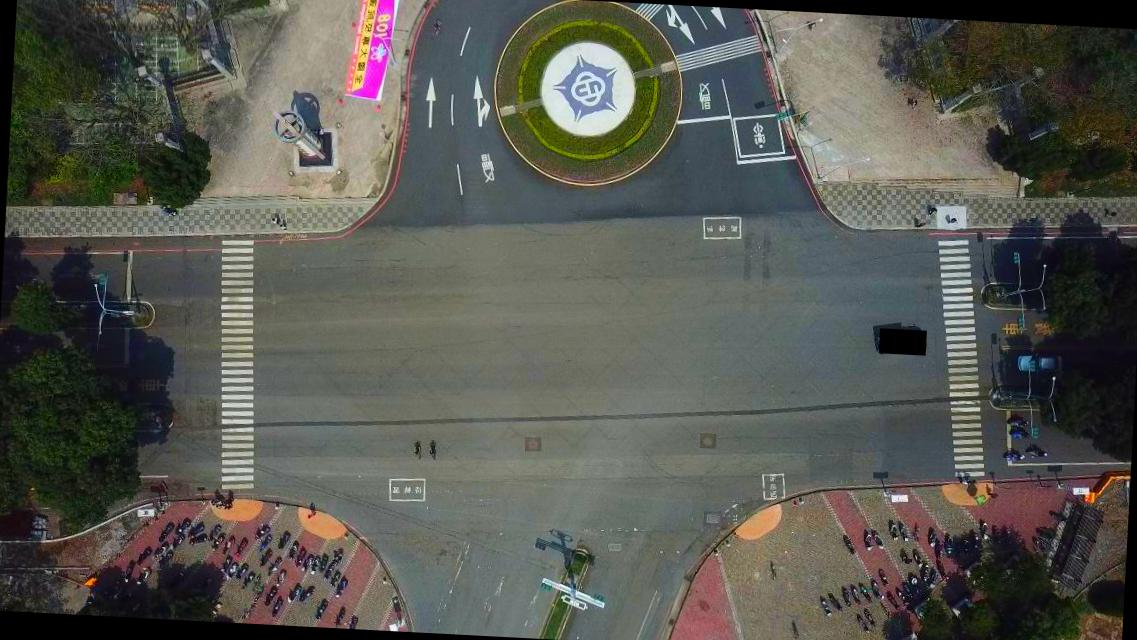vehicle: (1016, 352, 1066, 374)
